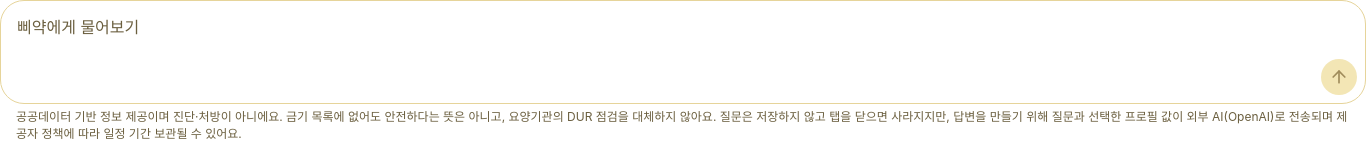
Test: ChatInput › 보내면 다듬은 글자를 넘기고 입력창을 비운다
Type "  합성 질문  " into the text box at coordinates (686, 27), box [11,5,1361,49]
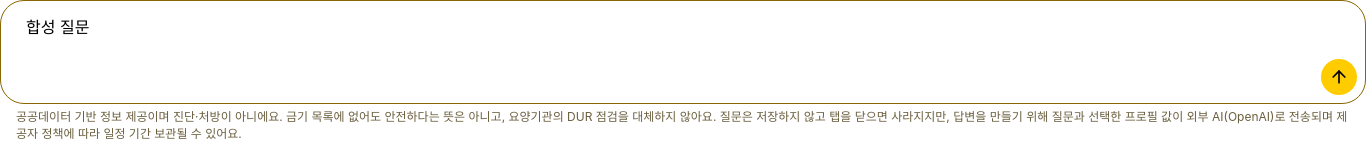
Click the button named "보내기" at coordinates (1339, 77), box [1317,55,1361,99]
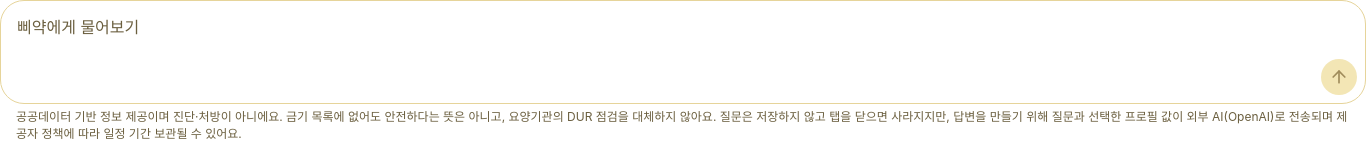
Check: the text box is empty, box [11,5,1361,49]
